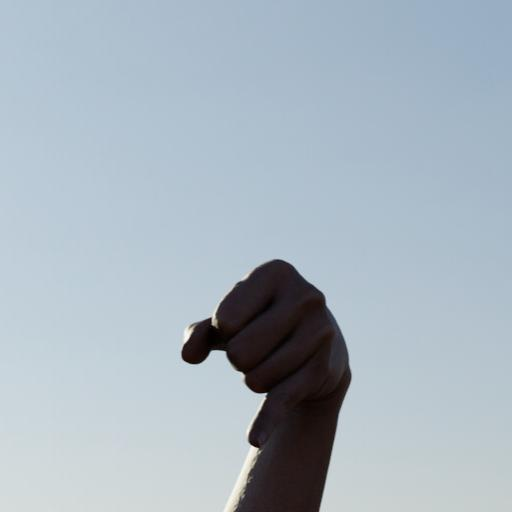J: (178, 254, 357, 456)
